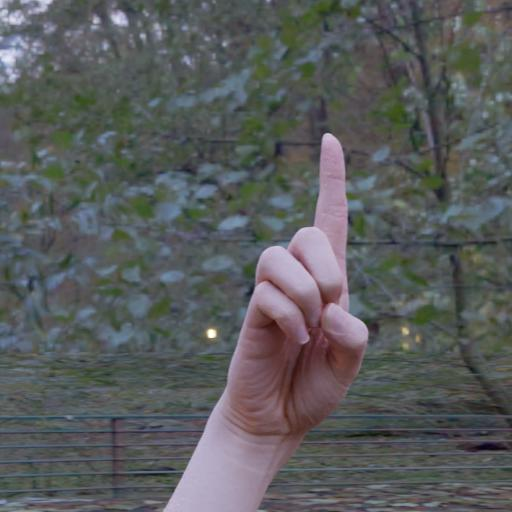D: (216, 124, 372, 438)
